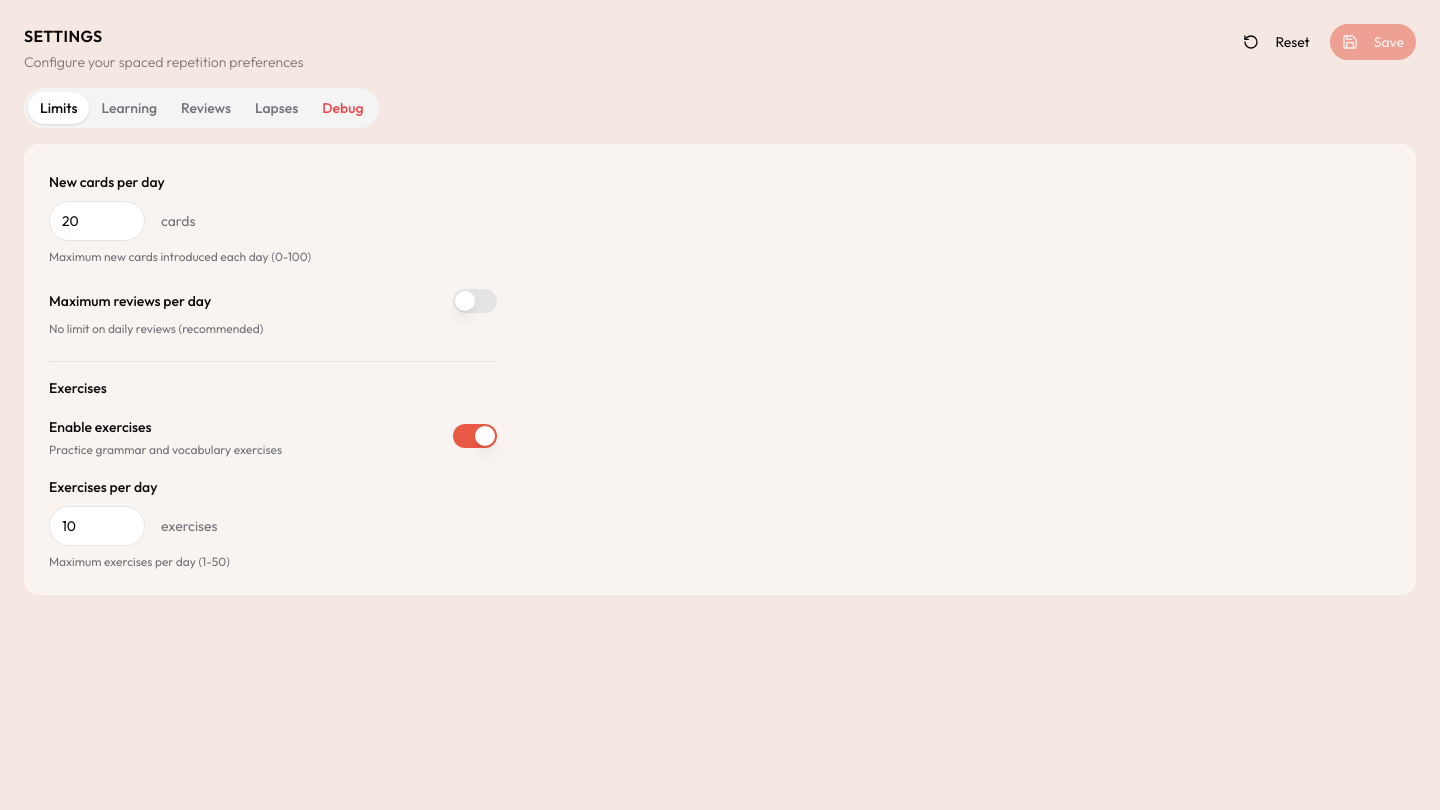
Test: SettingsPage › SRS settings › shows lapse new interval slider
// Click Lapses tab
Click the tab "Lapses". click: x=277, y=108
box: x1=243 y1=92 x2=310 y2=124
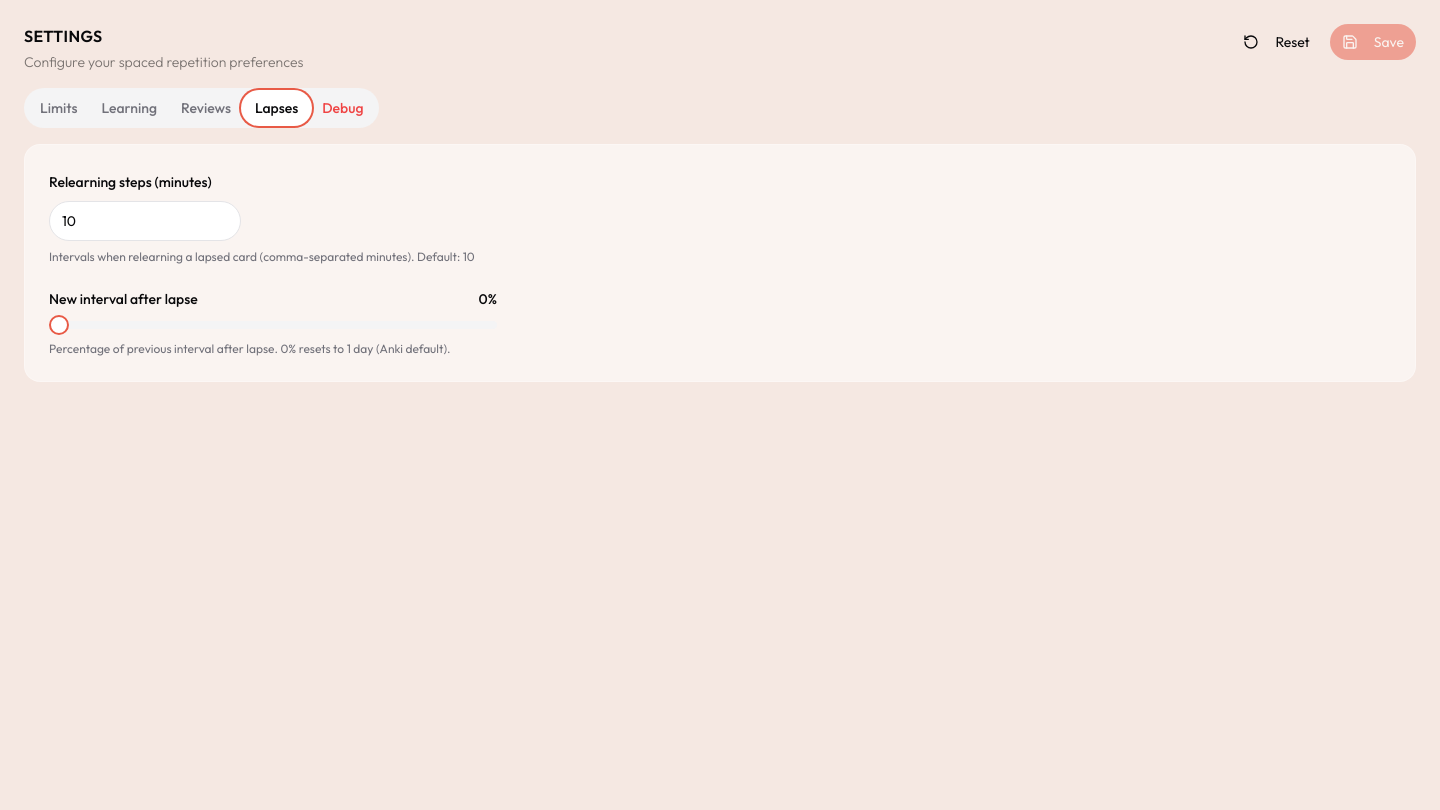
Result: the text "New interval after lapse" is shown at x1=49 y1=292 x2=198 y2=306
Result: the text "0%" is shown at x1=479 y1=289 x2=497 y2=309
Result: the slider is shown at x1=49 y1=315 x2=69 y2=335
